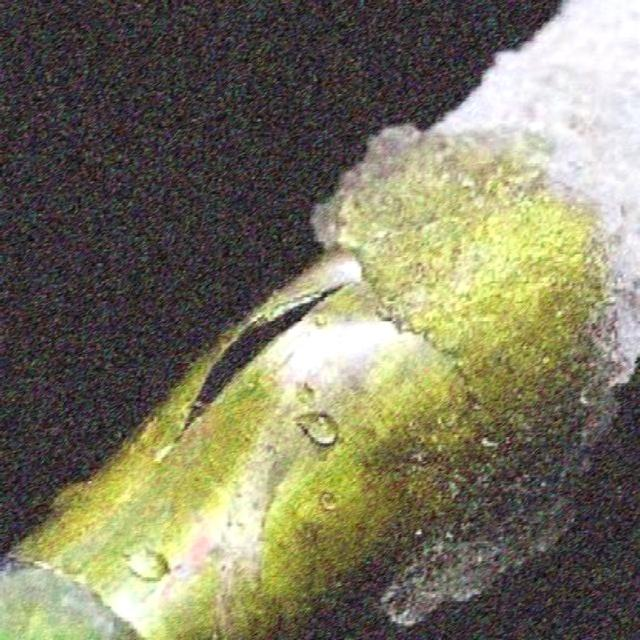Hole: (169, 278, 361, 448)
